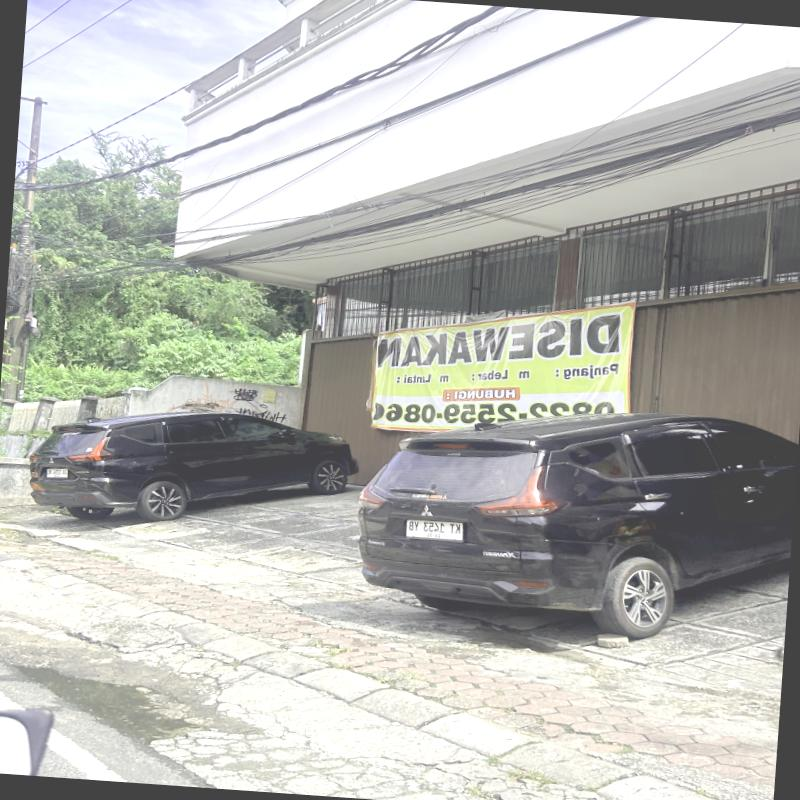license plate on a car: (405, 519, 462, 541), (47, 468, 67, 477)
